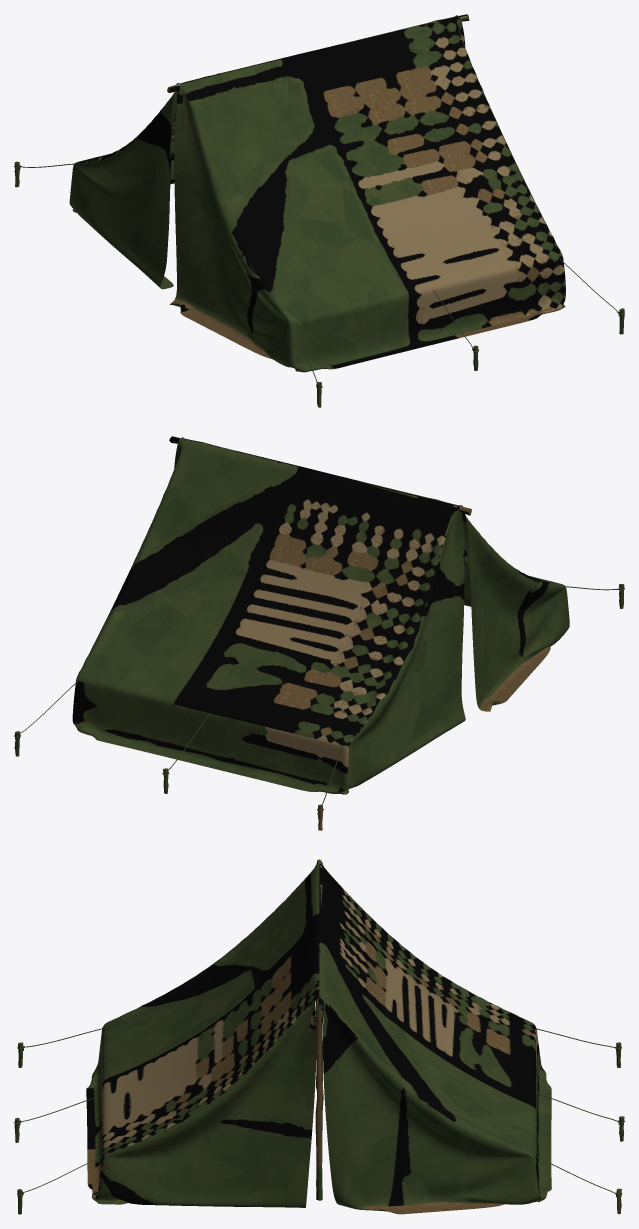
The picture shows the model from 3 angles, top to bottom: view 1: azimuth 30°, elevation 25°; view 2: azimuth 150°, elevation 25°; view 3: azimuth 270°, elevation 25°; orthographic projection.
Visible parts, largest first — view 1: Tent; view 2: Tent; view 3: Tent.
Boxes of the visible parts, x1,y1,x2,y2 form: Tent: (14,14,624,407); Tent: (14,436,624,830); Tent: (14,859,624,1214).
Bounding box in the file's own units: 15.57 × 10.09 × 26.14.
1 material, 1 textured.
